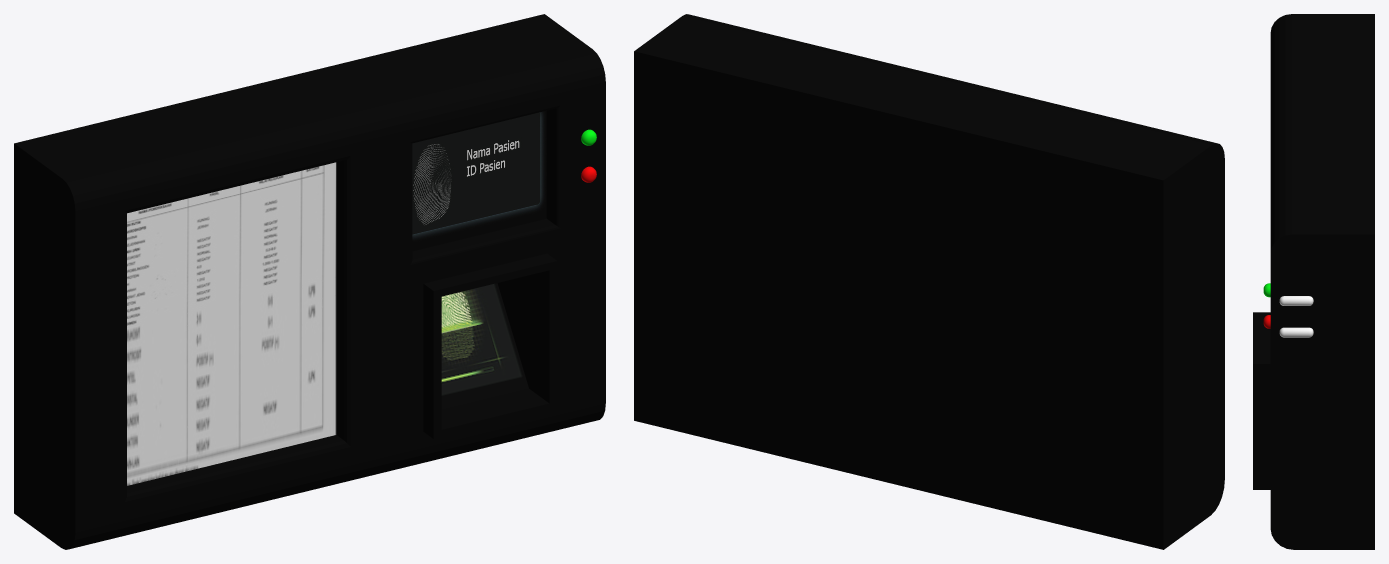
Rendered from biometic.glb.
3 renders of one model, left to right at view 1: azimuth 30°, elevation 25°; view 2: azimuth 150°, elevation 25°; view 3: azimuth 270°, elevation 25°, orthographic. The views are drawn at different scales.
Visible parts, largest first — view 1: Cube; view 2: Cube; view 3: Cube, Cylinder.003, Cylinder.002.
Part boxes in pixels (x1,y1,x2,y2): Cube: [14, 14, 605, 549]; Cube: [634, 14, 1224, 549]; Cube: [1253, 14, 1374, 549]; Cylinder.003: [1279, 327, 1313, 337]; Cylinder.002: [1279, 296, 1313, 305].
Bounding box in the file's own units: 3.03 × 2 × 0.7.
1 material, 1 textured.
